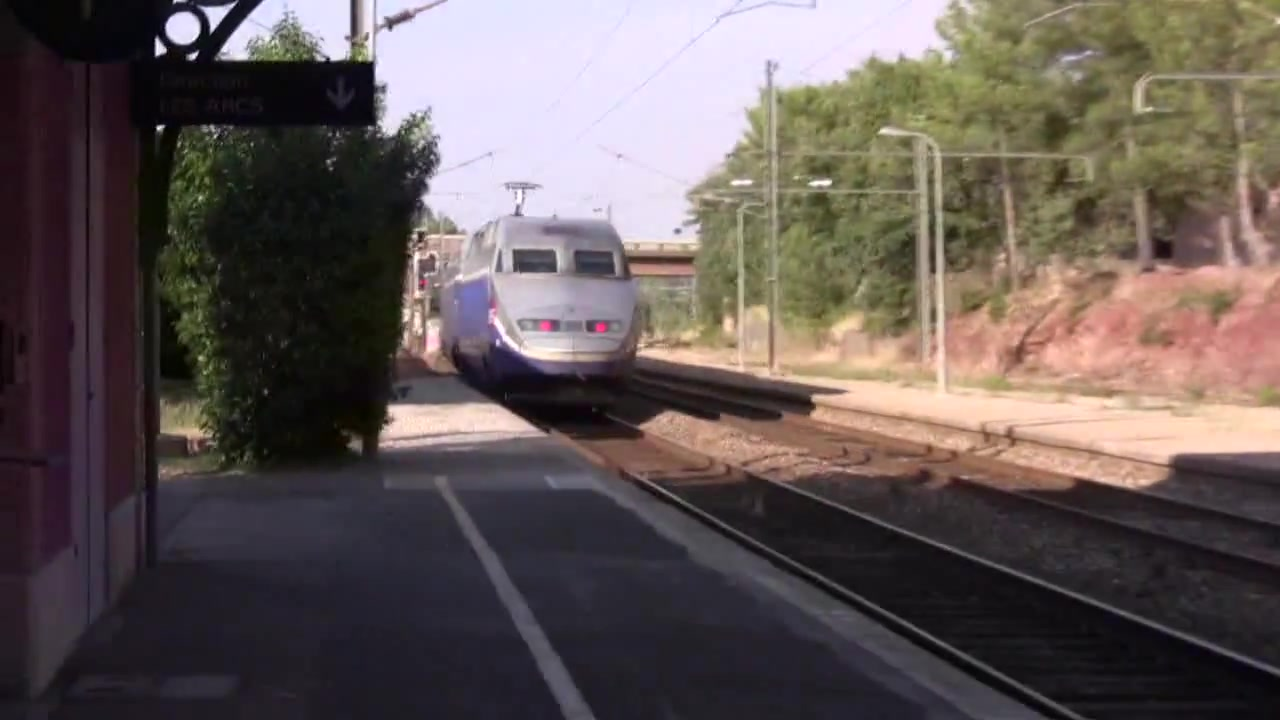train: (435, 209, 644, 392)
